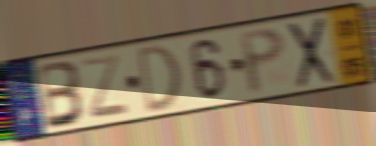6: (188, 37, 228, 103)
B: (37, 58, 88, 133)
D: (136, 41, 183, 117)
P: (236, 25, 287, 98)
X: (286, 14, 337, 92)
Z: (79, 52, 132, 122)
